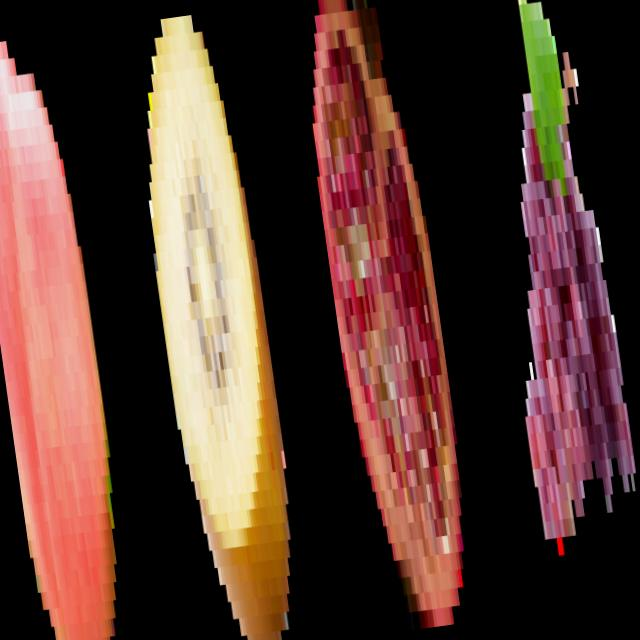grape: (457, 0, 640, 575)
kiwifruit: (112, 9, 319, 640)
peach: (0, 33, 145, 640)
pomegranate: (284, 0, 488, 635)
